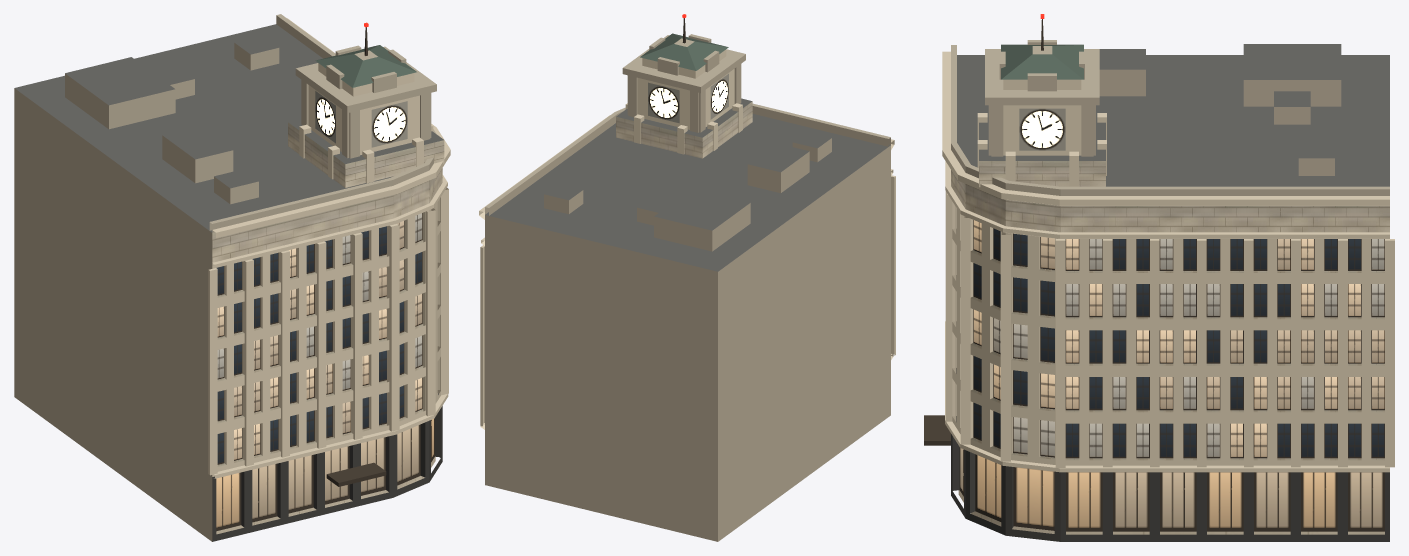
The model's file is wako_ginza.glb.
3 views of the same model, side by side, from view 1: azimuth 30°, elevation 25°; view 2: azimuth 150°, elevation 25°; view 3: azimuth 270°, elevation 25° (orthographic). The views are drawn at different scales.
Visible parts, largest first — view 1: wako_ginza; view 2: wako_ginza; view 3: wako_ginza.
Boxes of the visible parts, x1,y1,x2,y2 form: wako_ginza: (14,14,450,541); wako_ginza: (479,14,895,541); wako_ginza: (924,14,1394,541).
Bounding box in the file's own units: 29.1 × 44.2 × 38.6.
Materials: 2 (2 with a texture image).
